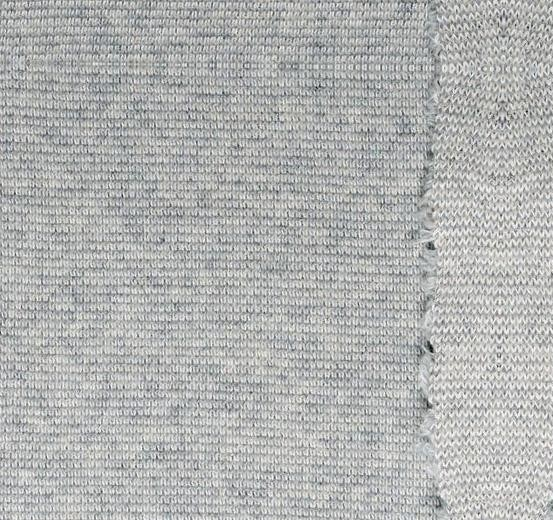slub: (394, 3, 467, 520)
